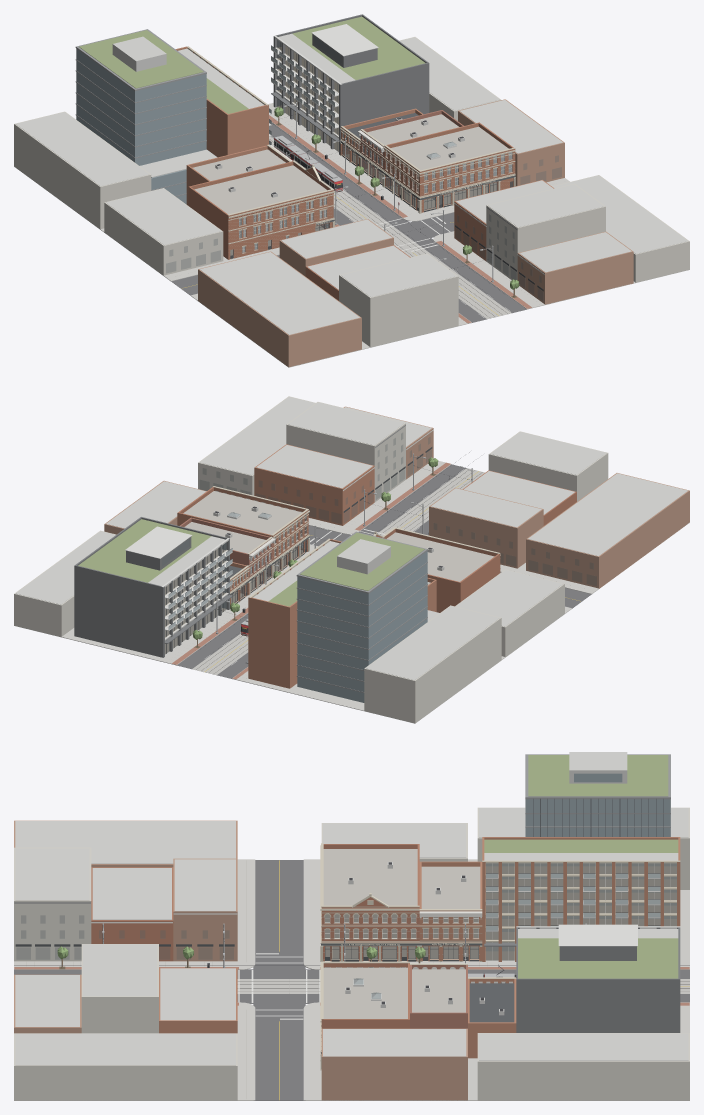
File: clay-toronto-streetcar-street-clay-v002.glb
The picture shows the model from 3 angles, top to bottom: view 1: azimuth 30°, elevation 25°; view 2: azimuth 150°, elevation 25°; view 3: azimuth 270°, elevation 25°; orthographic projection. The views are drawn at different scales.
Parts seen in each view (by area): view 1: CLAY_MEMBRANE, CLAY_CONTEXT, CLAY_NEIGHBOUR, CLAY_CURTAIN, CLAY_WALL, CLAY_ROOF, CLAY_CHARCOAL, CLAY_GLASS, CLAY_GREEN, CLAY_BRICK2, CLAY_STONE, CLAY_CONCRETE (+11 smaller); view 2: CLAY_MEMBRANE, CLAY_CONTEXT, CLAY_CURTAIN, CLAY_NEIGHBOUR, CLAY_CHARCOAL, CLAY_BRICK2, CLAY_GREEN, CLAY_ROOF, CLAY_GLASS, CLAY_CONCRETE, CLAY_WALL, CLAY_ASPHALT (+10 smaller); view 3: CLAY_MEMBRANE, CLAY_CONTEXT, CLAY_ROOF, CLAY_GLASS, CLAY_ASPHALT, CLAY_GREEN, CLAY_NEIGHBOUR, CLAY_CONCRETE, CLAY_CHARCOAL, CLAY_FLOOR, CLAY_BRICK2, CLAY_WALL (+12 smaller).
Boxes of the visible parts, x1,y1,x2,y2 form: CLAY_MEMBRANE: [16, 33, 687, 334]; CLAY_CONTEXT: [14, 37, 689, 347]; CLAY_NEIGHBOUR: [198, 99, 633, 367]; CLAY_CURTAIN: [76, 48, 217, 204]; CLAY_WALL: [188, 122, 515, 300]; CLAY_ROOF: [192, 114, 508, 214]; CLAY_CHARCOAL: [271, 14, 429, 154]; CLAY_GLASS: [166, 36, 561, 301]; CLAY_GREEN: [79, 16, 425, 113]; CLAY_BRICK2: [175, 46, 554, 261]; CLAY_STONE: [186, 46, 515, 259]; CLAY_CONCRETE: [17, 103, 689, 367]; CLAY_MEMBRANE: [16, 397, 687, 680]; CLAY_CONTEXT: [14, 396, 608, 723]; CLAY_CURTAIN: [297, 551, 427, 702]; CLAY_NEIGHBOUR: [104, 406, 689, 588]; CLAY_CHARCOAL: [74, 517, 248, 663]; CLAY_BRICK2: [230, 444, 436, 688]; CLAY_GREEN: [78, 519, 424, 606]; CLAY_ROOF: [183, 491, 494, 584]; CLAY_GLASS: [162, 433, 596, 654]; CLAY_CONCRETE: [19, 460, 689, 723]; CLAY_WALL: [177, 470, 576, 612]; CLAY_ASPHALT: [177, 464, 591, 678]; CLAY_MEMBRANE: [15, 752, 688, 1065]; CLAY_CONTEXT: [14, 807, 689, 1100]; CLAY_ROOF: [323, 849, 480, 1018]; CLAY_GLASS: [16, 863, 676, 998]; CLAY_ASPHALT: [14, 860, 689, 1100]; CLAY_GREEN: [484, 755, 678, 978]; CLAY_NEIGHBOUR: [14, 820, 467, 1100]; CLAY_CONCRETE: [14, 859, 689, 1100]; CLAY_CHARCOAL: [484, 927, 680, 1032]; CLAY_FLOOR: [325, 866, 676, 960]; CLAY_BRICK2: [159, 837, 680, 1058]; CLAY_WALL: [91, 844, 464, 1028].
Size of the model in its own units: 118 by 34.7 by 140.
